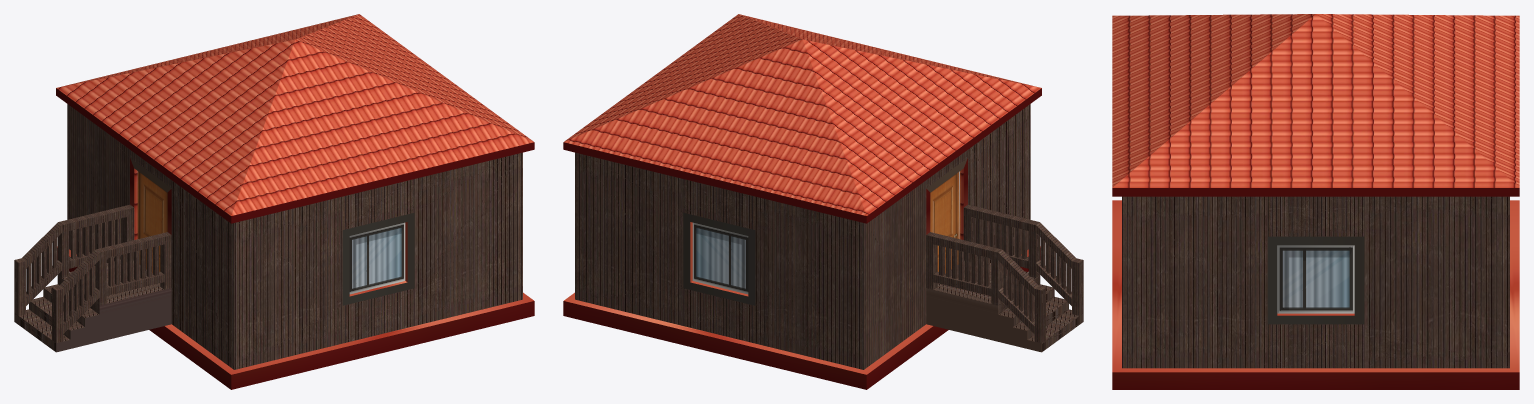
File: maison2.glb
The picture shows the model from 3 angles, left to right: view 1: azimuth 30°, elevation 25°; view 2: azimuth 150°, elevation 25°; view 3: azimuth 270°, elevation 25°; orthographic projection. The views are drawn at different scales.
Visible parts, largest first — view 1: home; view 2: home; view 3: home.
Part boxes in pixels (left/top/right/bottom): home: left=14, top=14, right=534, bottom=389; home: left=563, top=14, right=1083, bottom=389; home: left=1112, top=14, right=1519, bottom=389.
Bounding box in the file's own units: 5.7 × 3.3 × 4.2.
Materials: 4 (4 with a texture image).
